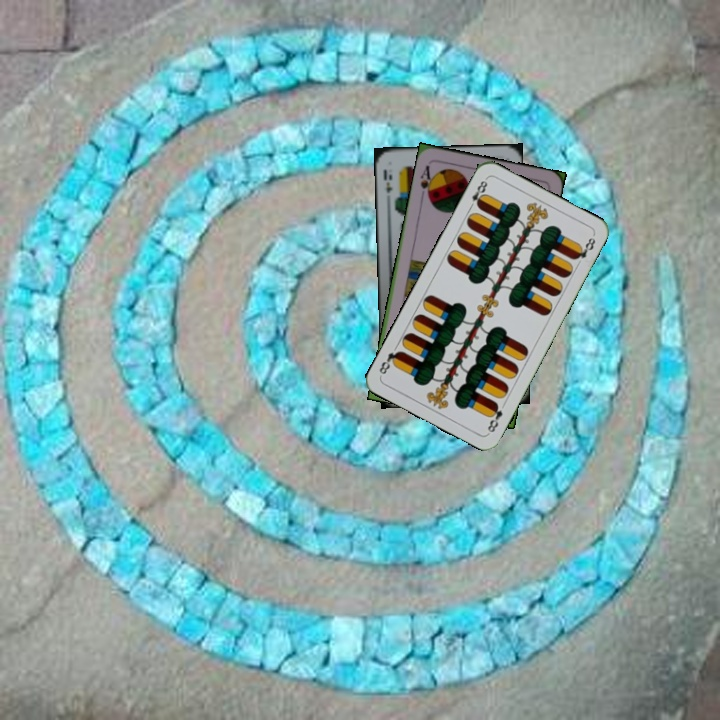E8: (465, 174, 490, 212), (483, 399, 505, 435)
EK: (379, 165, 395, 195)
SA: (416, 161, 437, 202)
